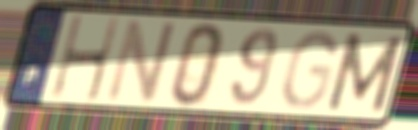0: (167, 20, 225, 109)
9: (227, 25, 280, 109)
G: (279, 29, 339, 112)
H: (48, 14, 122, 105)
M: (322, 30, 407, 116)
N: (102, 16, 180, 105)
